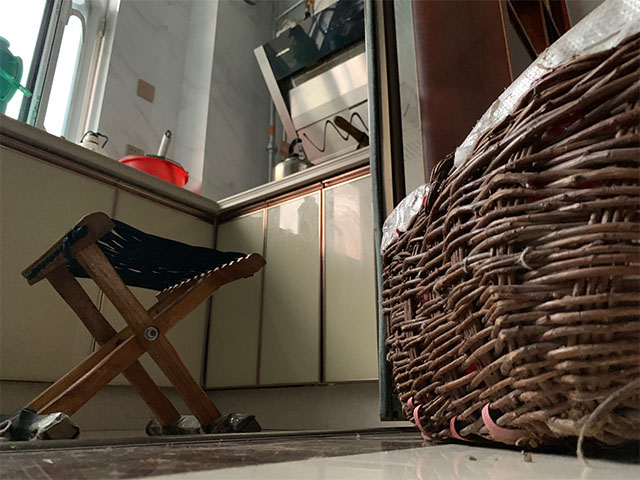cabinet: (1, 116, 206, 432), (207, 169, 414, 434)
stool: (1, 210, 270, 443)
